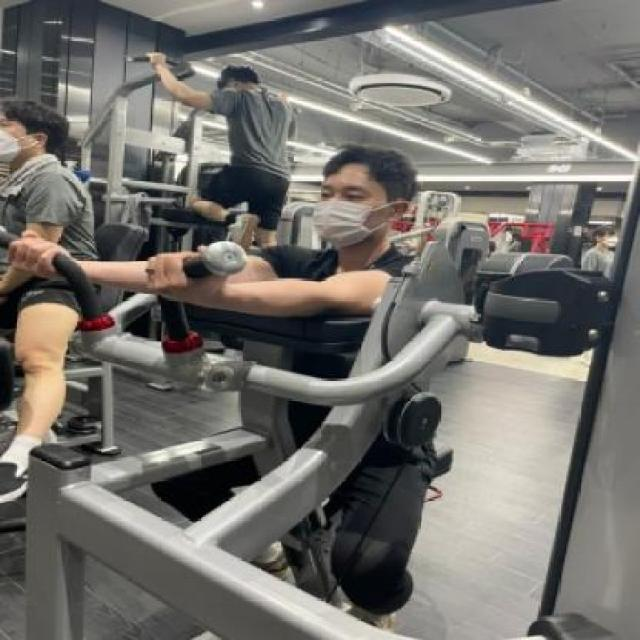arm curl machine: (0, 224, 480, 640)
